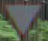Give way: (0, 1, 41, 40)
